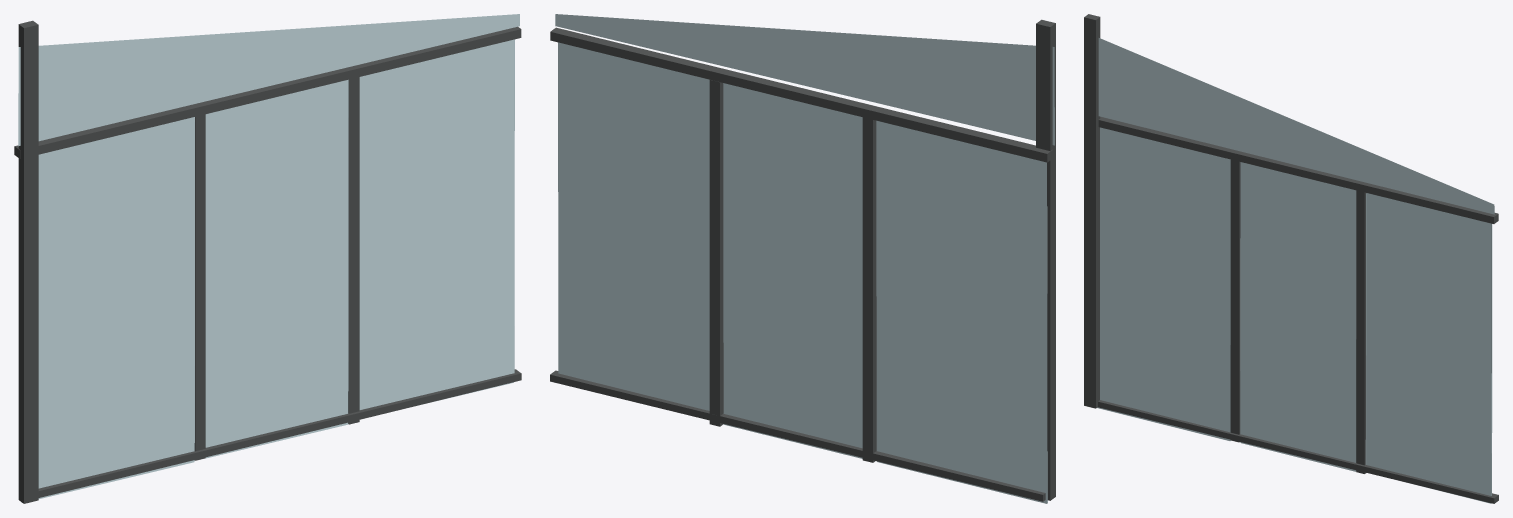
File: Cynglasswall3slopGREY.glb
The picture shows the model from 3 angles, left to right: view 1: azimuth 30°, elevation 25°; view 2: azimuth 150°, elevation 25°; view 3: azimuth 330°, elevation 25°; orthographic projection. The views are drawn at different scales.
Parts seen in each view (by area): view 1: doorfleft.003, doorfleft.001, doorfleft.002, trianglel, Cube.001, Cube.002, Cube.007, Cube.004, Cube.005; view 2: doorfleft.003, doorfleft.001, doorfleft.002, trianglel, Cube.002, Cube.001, Cube.005, Cube.004, Cube.007; view 3: doorfleft.003, doorfleft.001, doorfleft.002, trianglel, Cube.001, Cube.002, Cube.007, Cube.005, Cube.004.
Boxes of the visible parts, bbox=[...] form: doorfleft.003: bbox=[21, 117, 194, 502]; doorfleft.001: bbox=[359, 39, 514, 409]; doorfleft.002: bbox=[205, 79, 348, 458]; trianglel: bbox=[18, 14, 519, 146]; Cube.001: bbox=[18, 20, 38, 503]; Cube.002: bbox=[14, 26, 521, 158]; Cube.007: bbox=[38, 369, 521, 497]; Cube.004: bbox=[348, 77, 359, 424]; Cube.005: bbox=[194, 114, 205, 460]; doorfleft.003: bbox=[876, 120, 1047, 503]; doorfleft.001: bbox=[558, 42, 709, 410]; doorfleft.002: bbox=[723, 83, 862, 458]; trianglel: bbox=[555, 14, 1054, 145]; Cube.002: bbox=[550, 27, 1052, 162]; Cube.001: bbox=[1036, 19, 1055, 500]; Cube.005: bbox=[862, 117, 876, 462]; Cube.004: bbox=[709, 80, 723, 426]; Cube.007: bbox=[550, 370, 1045, 501]; doorfleft.003: bbox=[1097, 127, 1230, 440]; doorfleft.001: bbox=[1365, 193, 1492, 503]; doorfleft.002: bbox=[1240, 162, 1356, 471]; trianglel: bbox=[1098, 38, 1494, 214]; Cube.001: bbox=[1084, 14, 1100, 408]; Cube.002: bbox=[1098, 116, 1498, 223]; Cube.007: bbox=[1098, 400, 1498, 503]; Cube.005: bbox=[1230, 159, 1240, 442]; Cube.004: bbox=[1356, 190, 1366, 473].
Bounding box in the file's own units: 2.89 × 2.64 × 0.091.
